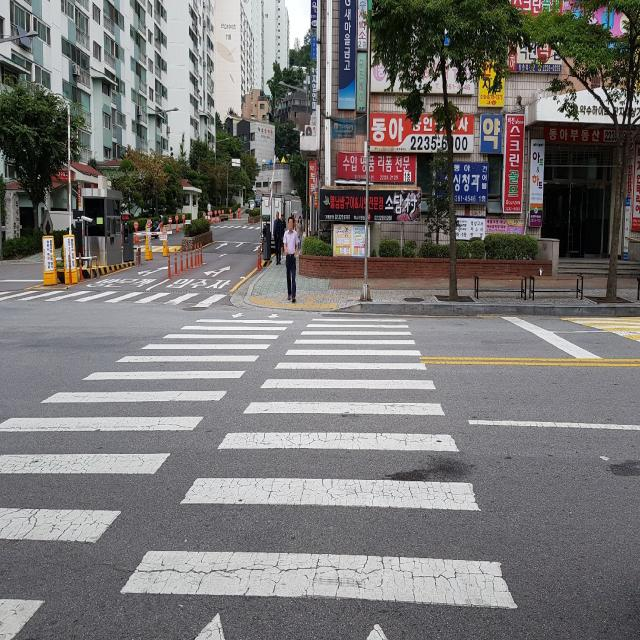횡단보도: (0, 314, 519, 640), (0, 276, 230, 315)
